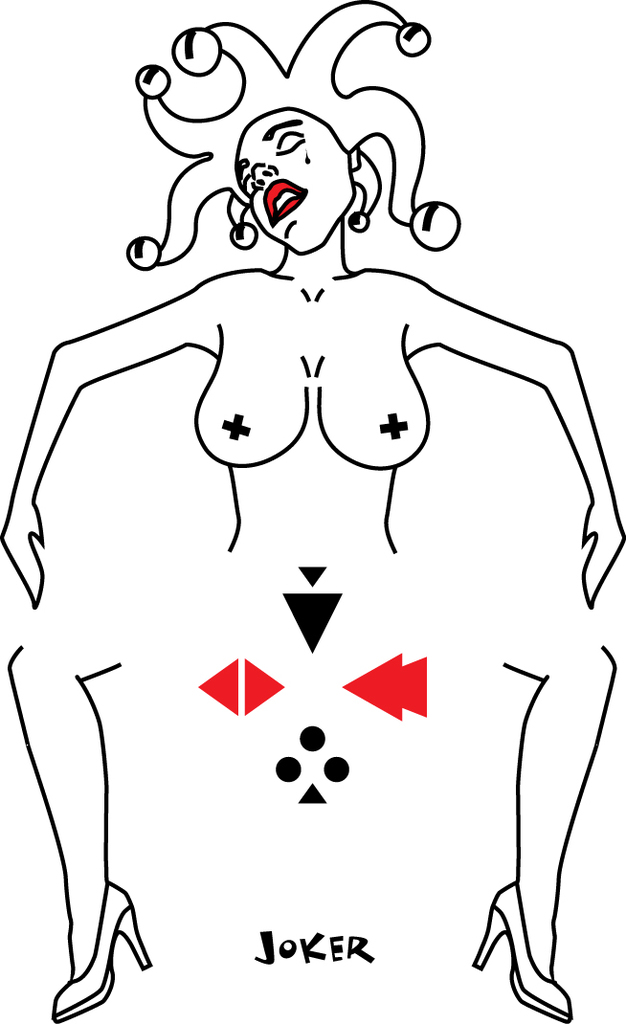Human_hand: (582, 482, 625, 609), (0, 491, 42, 608)
